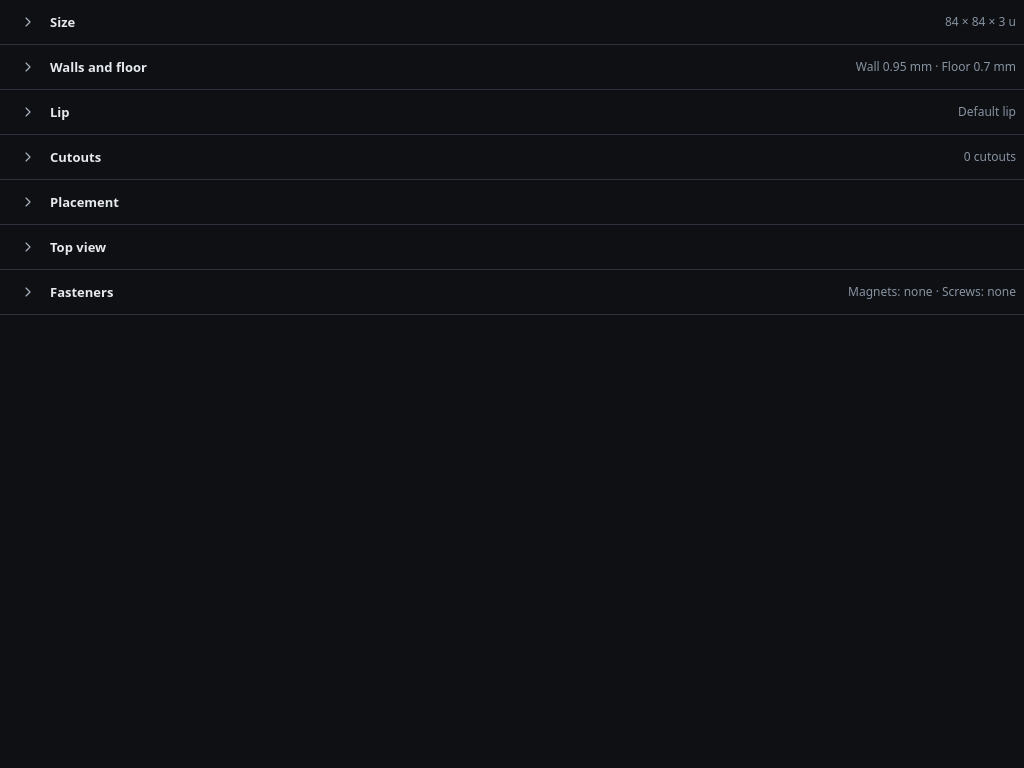
Test: окно «Из фото»: снимок, советы и бумага (3.1) › шаг 1: только выбор снимка и подробные советы по съёмке (семь пунктов); бумаги здесь нет
Click the button named "Expand: Cutouts". click: point(28, 157)
box: [12,141,44,173]
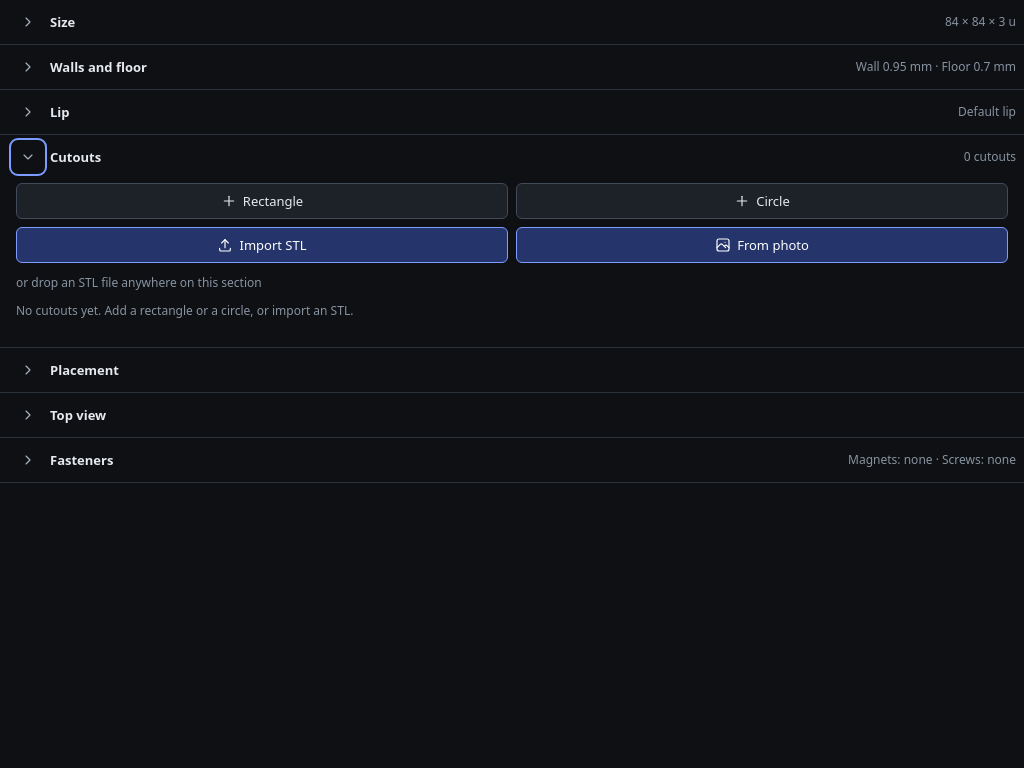
Click the button "From photo". click: point(762, 245)
box: [516,227,1008,263]
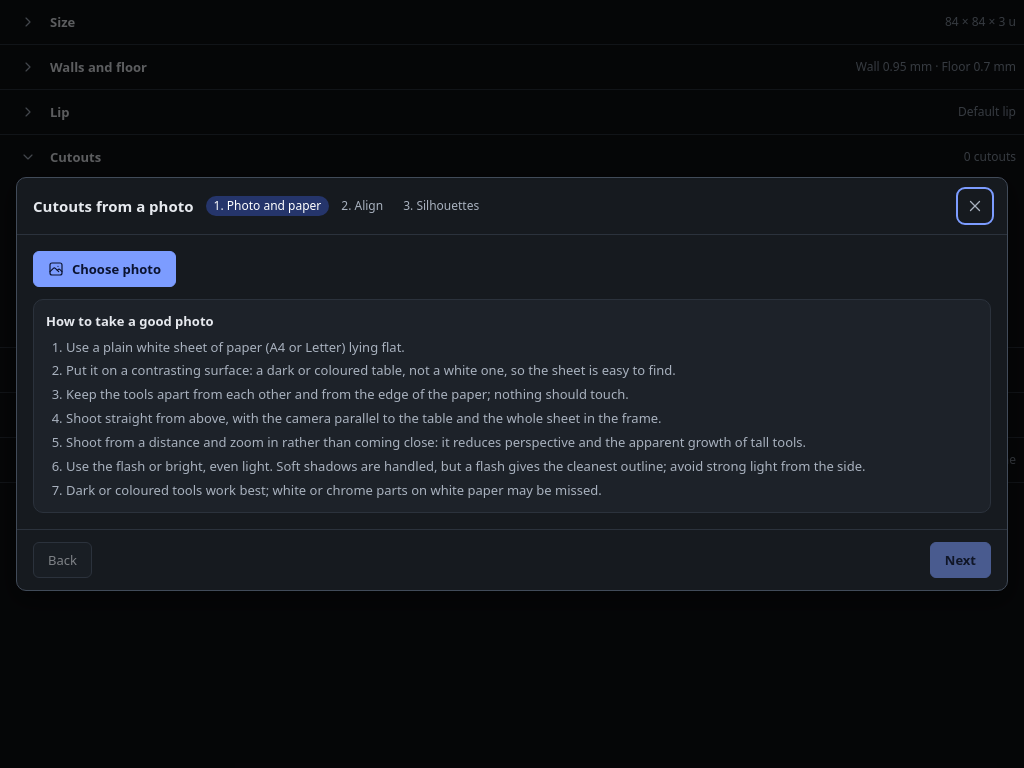
Result: the button "Choose photo" is shown at [33,251,176,287]
Result: the element with test id "photo-tips" shows "contrasting surface" at [66,361,676,379]
Result: the element with test id "photo-tips" shows "straight from above" at [66,409,662,427]
